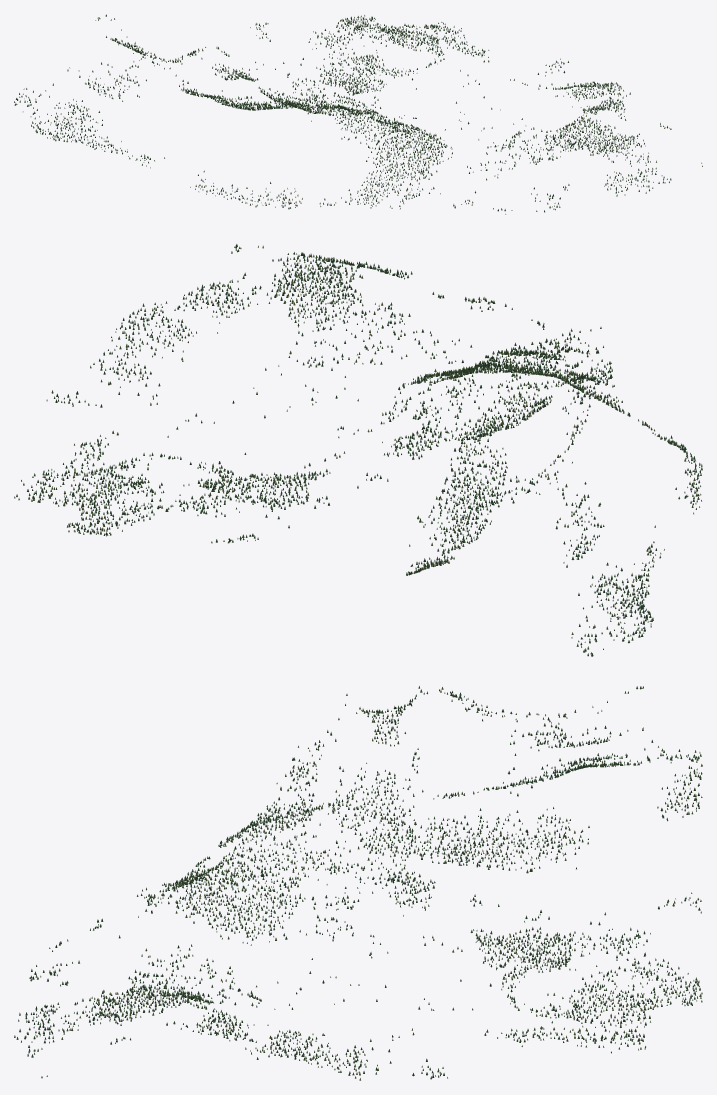
The picture shows the model from 3 angles, top to bottom: view 1: azimuth 30°, elevation 25°; view 2: azimuth 150°, elevation 25°; view 3: azimuth 270°, elevation 25°; orthographic projection. The views are drawn at different scales.
Parts seen in each view (by area): view 1: Forest 2.11, Forest 2.7, Forest 2.3, Forest 2.9, Forest 2.5, Forest 2.6, Forest 2.0, Forest 2.2, Forest 2.10, Forest 2.4; view 2: Forest 2.11, Forest 2.3, Forest 2.9, Forest 2.6, Forest 2.5, Forest 2.2, Forest 2.0, Forest 2.7, Forest 2.10, Forest 2.4; view 3: Forest 2.3, Forest 2.11, Forest 2.6, Forest 2.9, Forest 2.7, Forest 2.5, Forest 2.2, Forest 2.0, Forest 2.10.
Boxes of the visible parts, bbox=[...] form: Forest 2.11: bbox=[502, 92, 702, 190]; Forest 2.7: bbox=[358, 126, 560, 214]; Forest 2.3: bbox=[164, 47, 353, 203]; Forest 2.9: bbox=[340, 15, 489, 80]; Forest 2.5: bbox=[250, 22, 402, 96]; Forest 2.6: bbox=[300, 88, 478, 143]; Forest 2.0: bbox=[14, 67, 127, 154]; Forest 2.2: bbox=[95, 14, 266, 108]; Forest 2.10: bbox=[456, 58, 623, 134]; Forest 2.4: bbox=[250, 128, 392, 209]; Forest 2.11: bbox=[142, 244, 444, 370]; Forest 2.3: bbox=[441, 327, 701, 527]; Forest 2.9: bbox=[14, 430, 220, 536]; Forest 2.6: bbox=[244, 347, 542, 481]; Forest 2.5: bbox=[122, 465, 372, 543]; Forest 2.2: bbox=[406, 427, 600, 575]; Forest 2.0: bbox=[563, 524, 653, 656]; Forest 2.7: bbox=[344, 297, 607, 389]; Forest 2.10: bbox=[46, 307, 318, 437]; Forest 2.4: bbox=[548, 355, 702, 470]; Forest 2.3: bbox=[257, 686, 480, 867]; Forest 2.11: bbox=[35, 971, 258, 1078]; Forest 2.6: bbox=[257, 799, 480, 983]; Forest 2.9: bbox=[484, 969, 702, 1053]; Forest 2.7: bbox=[35, 827, 257, 987]; Forest 2.5: bbox=[479, 892, 701, 980]; Forest 2.2: bbox=[479, 686, 702, 873]; Forest 2.0: bbox=[483, 727, 701, 790]; Forest 2.10: bbox=[258, 984, 473, 1080].
Bounding box in the file's own units: 4272 × 981 × 3880.
